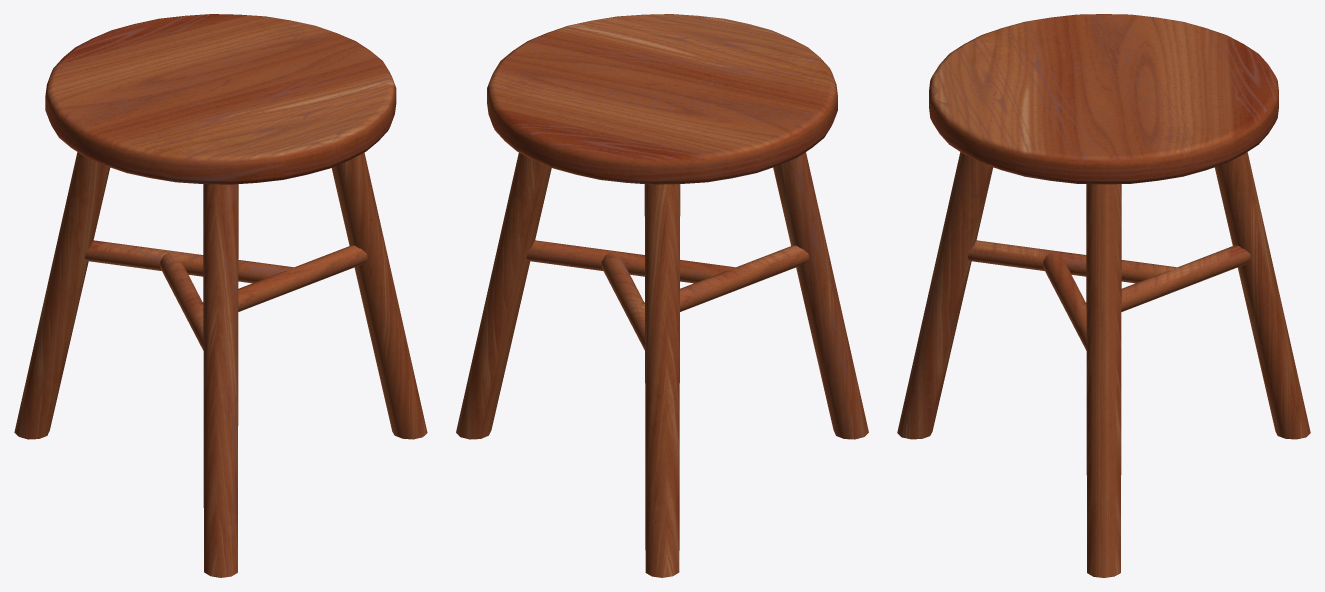
File: stool.fbx
The picture shows the model from 3 angles, left to right: view 1: azimuth 30°, elevation 25°; view 2: azimuth 150°, elevation 25°; view 3: azimuth 270°, elevation 25°; orthographic projection.
Parts seen in each view (by area): view 1: stool; view 2: stool; view 3: stool.
Part boxes in pixels (left/top/right/bottom): stool: left=14, top=14, right=427, bottom=577; stool: left=456, top=14, right=868, bottom=577; stool: left=897, top=14, right=1310, bottom=577.
Bounding box in the file's own units: 61.63 × 65.09 × 62.01.
1 material, 1 textured.
